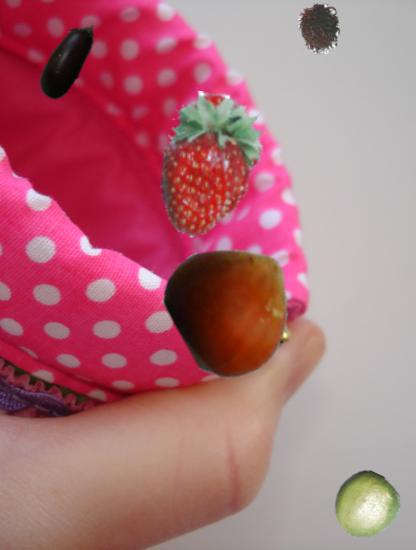Eggplant: (24, 16, 112, 104)
Limes: (333, 472, 400, 539)
Nut: (167, 241, 301, 375)
Rambutan: (293, 3, 345, 55)
Strawberry: (140, 92, 287, 239)
